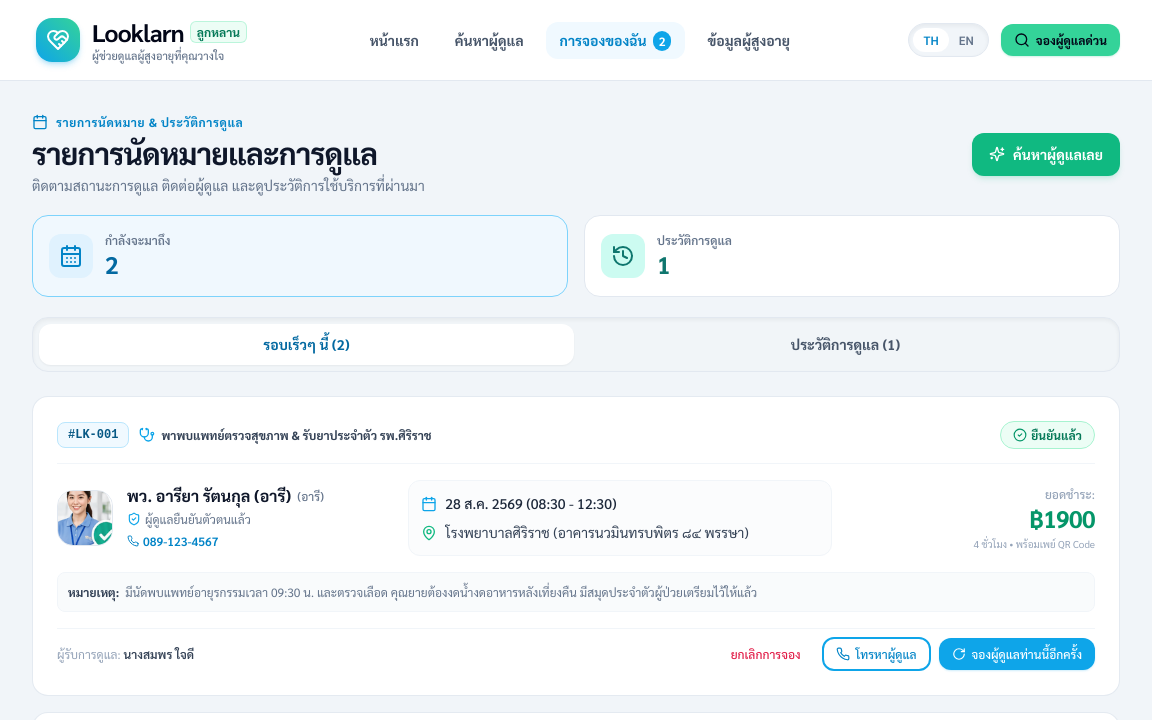
Test: Tier 1: Core Feature Coverage across 7 Routes & Components › Feature 7: My Bookings (/bookings) › 7.4 should open Review Modal when clicking "Leave Review" on past booking
Click the tab "ประวัติการดูแล (1)" at point(846, 344), box left=578, top=324, right=1113, bottom=365
(page scrolled)
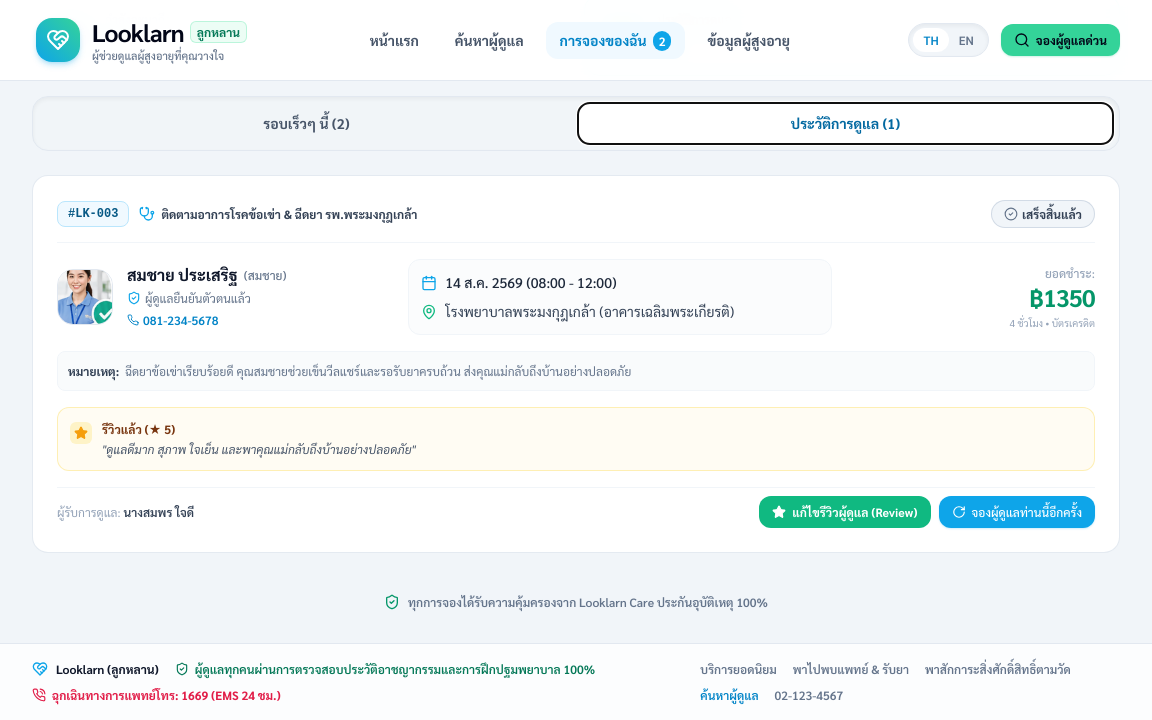
Click the button "แก้ไขรีวิวผู้ดูแล (Review)" at point(845, 512), box left=759, top=496, right=931, bottom=528
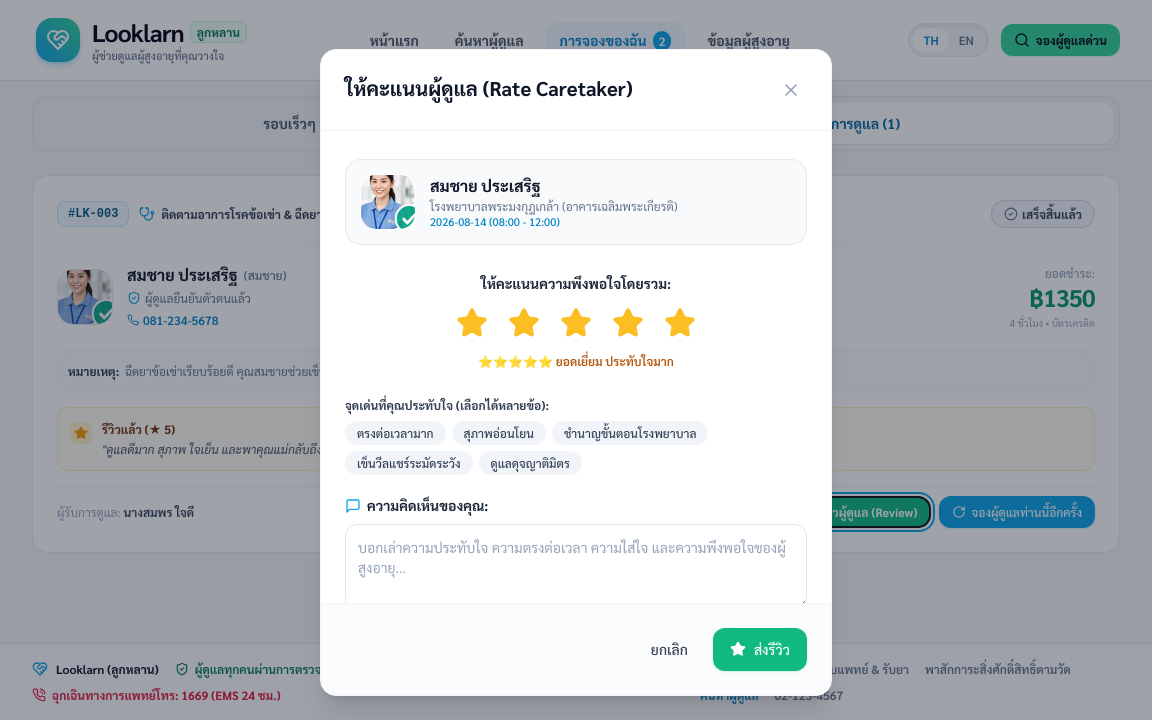
Expected: the heading "ให้คะแนนผู้ดูแล (Rate Caretaker)" is shown, left=345, top=74, right=633, bottom=102
